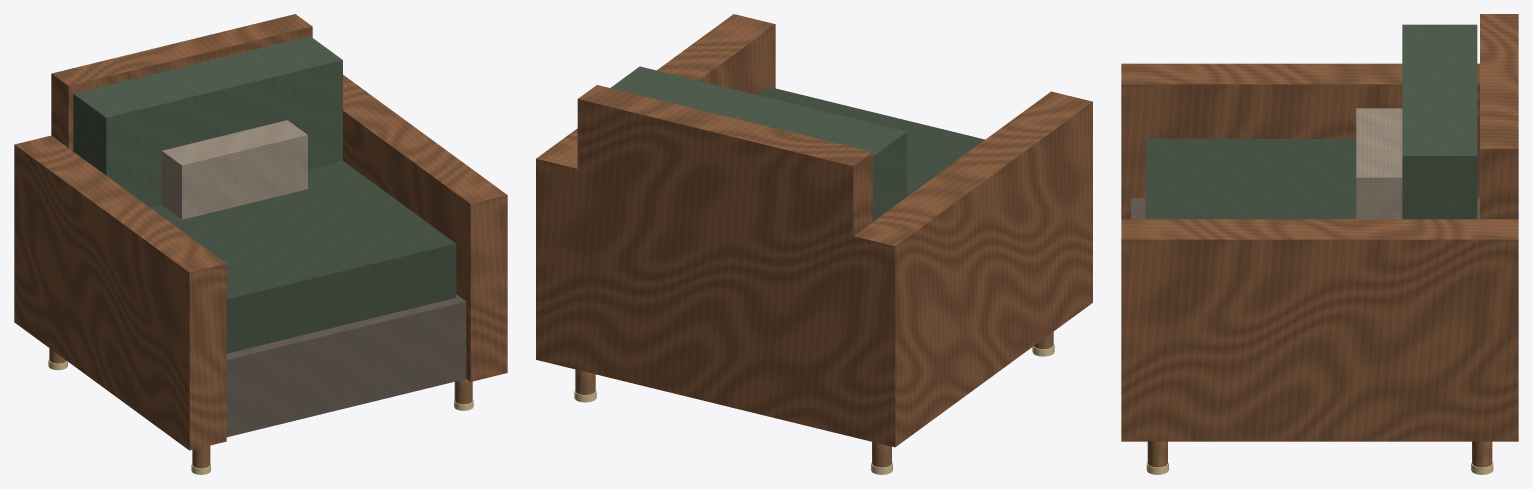
File: armchair_rum_preview.glb
3 renders of one model, left to right at view 1: azimuth 30°, elevation 25°; view 2: azimuth 150°, elevation 25°; view 3: azimuth 270°, elevation 25°, orthographic. The views are drawn at different scales.
Visible parts, largest first — view 1: Armchair_Rum; view 2: Armchair_Rum; view 3: Armchair_Rum.
Boxes of the visible parts, box(x1,y1,x2,y2) form: Armchair_Rum: box(14, 14, 507, 474); Armchair_Rum: box(536, 14, 1092, 474); Armchair_Rum: box(1121, 14, 1518, 474).
Size of the model in its own units: 0.86 by 0.72 by 0.82.
7 materials, 6 textured.
